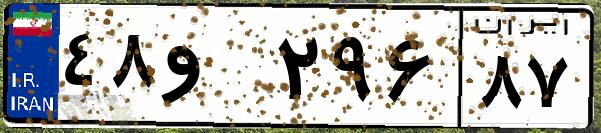2: (270, 28, 330, 110)
4: (57, 26, 110, 100)
6: (385, 28, 445, 110)
7: (525, 38, 570, 115)
8: (475, 38, 525, 113), (110, 28, 158, 98)
9: (330, 28, 385, 110)
و: (158, 20, 270, 120)
